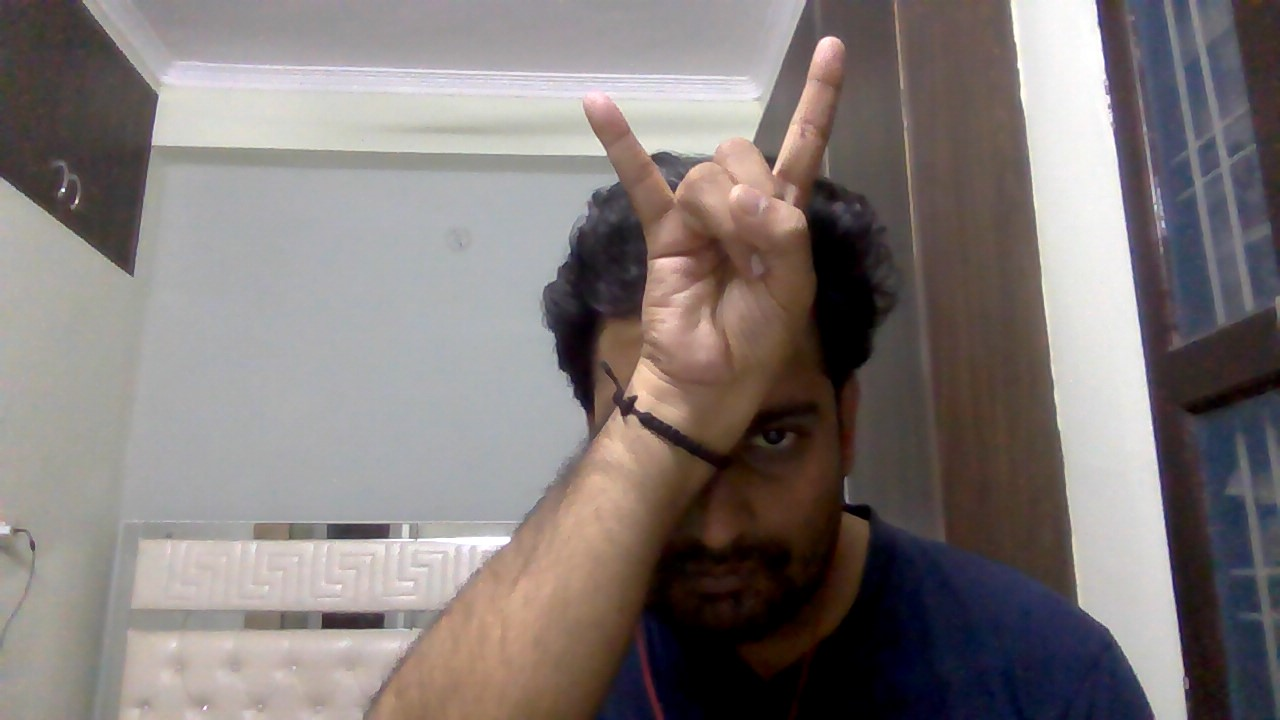Select All: (575, 29, 870, 401)
